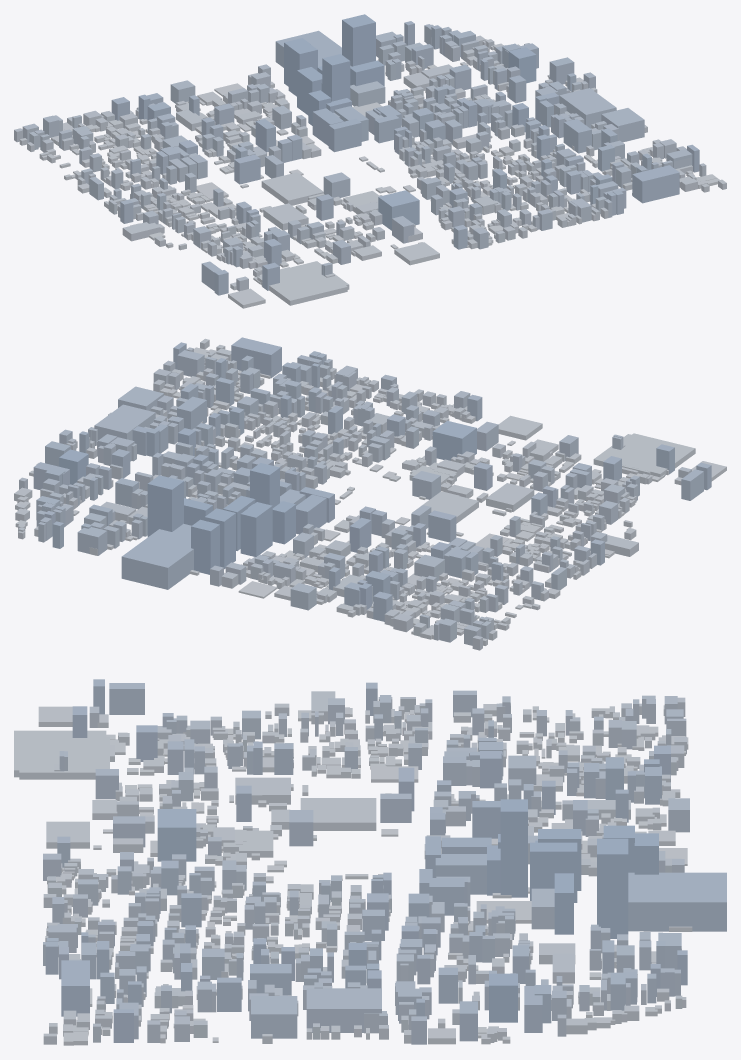
3 renders of one model, top to bottom at view 1: azimuth 30°, elevation 25°; view 2: azimuth 150°, elevation 25°; view 3: azimuth 270°, elevation 25°, orthographic. The views are drawn at different scales.
Bounding box in the file's own units: 1186 × 138 × 1038.
